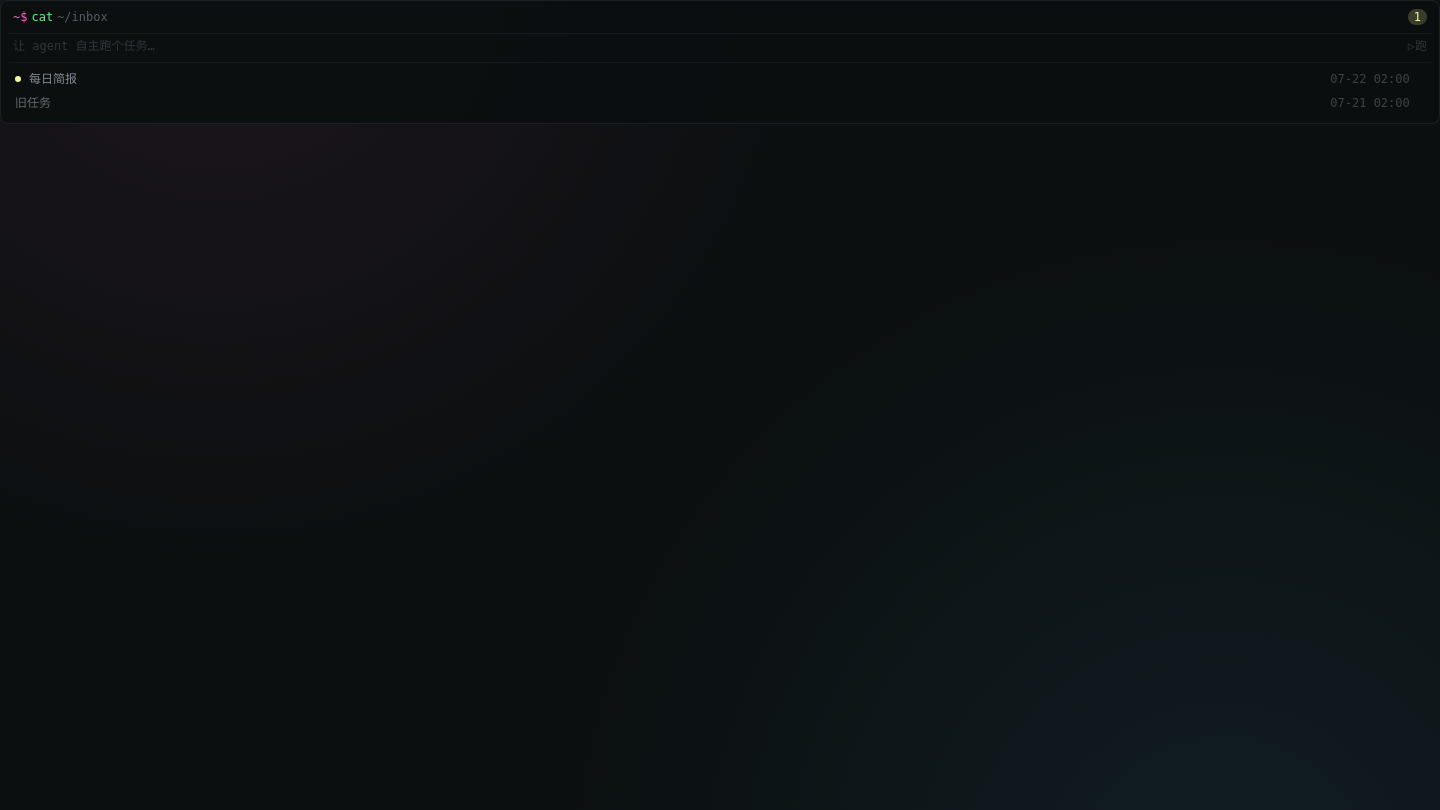
Scenario: InboxPanel 收件箱 › 列出产出 + 未读 badge；点开看正文并标已读
The image size is (1440, 810).
Expected: the text "1" is shown, [1408,9,1427,25]
Click the text "每日简报". click: click(53, 79)
box: [29,72,77,86]
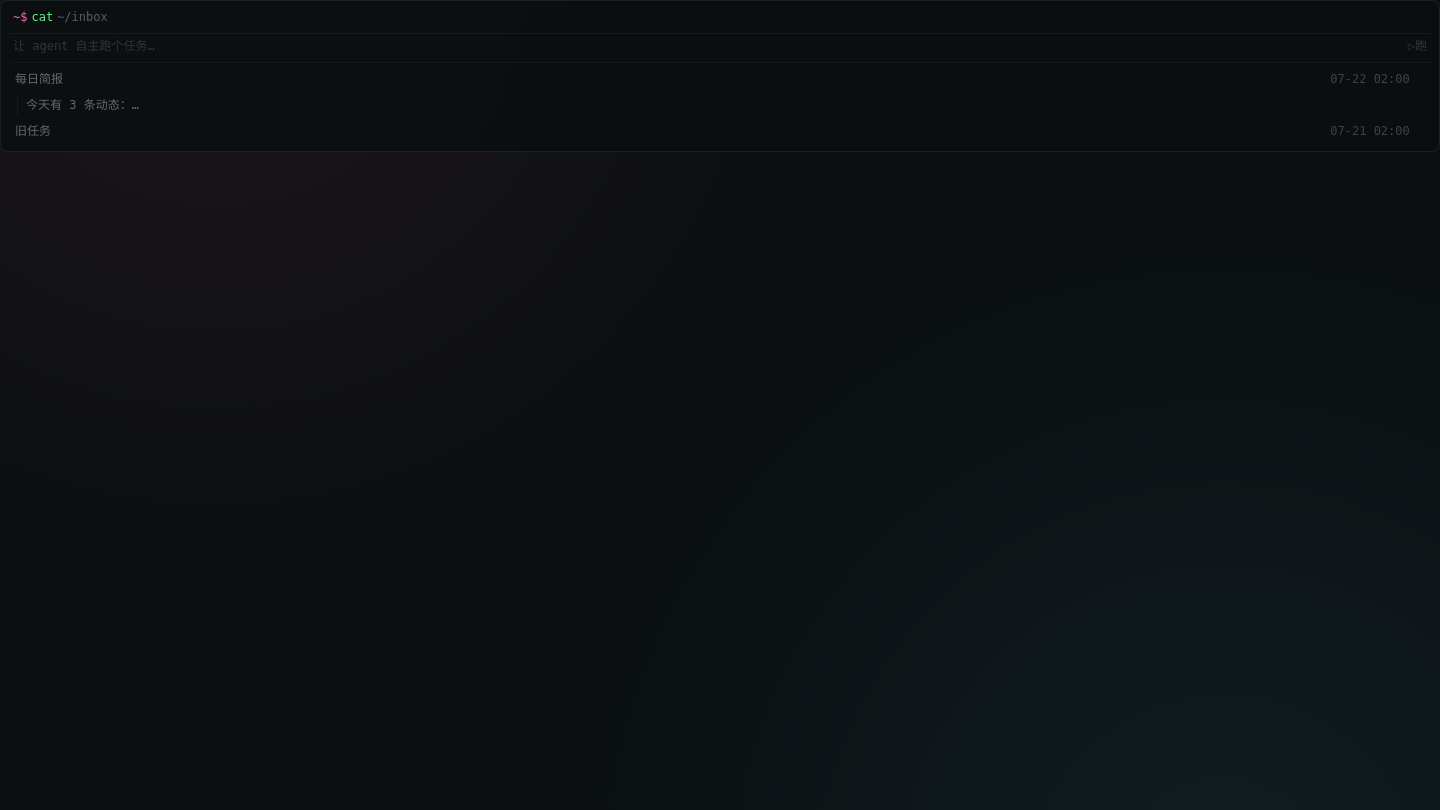
Expected: the text "今天有 3 条动态：…" is shown, [17,95,1431,115]
